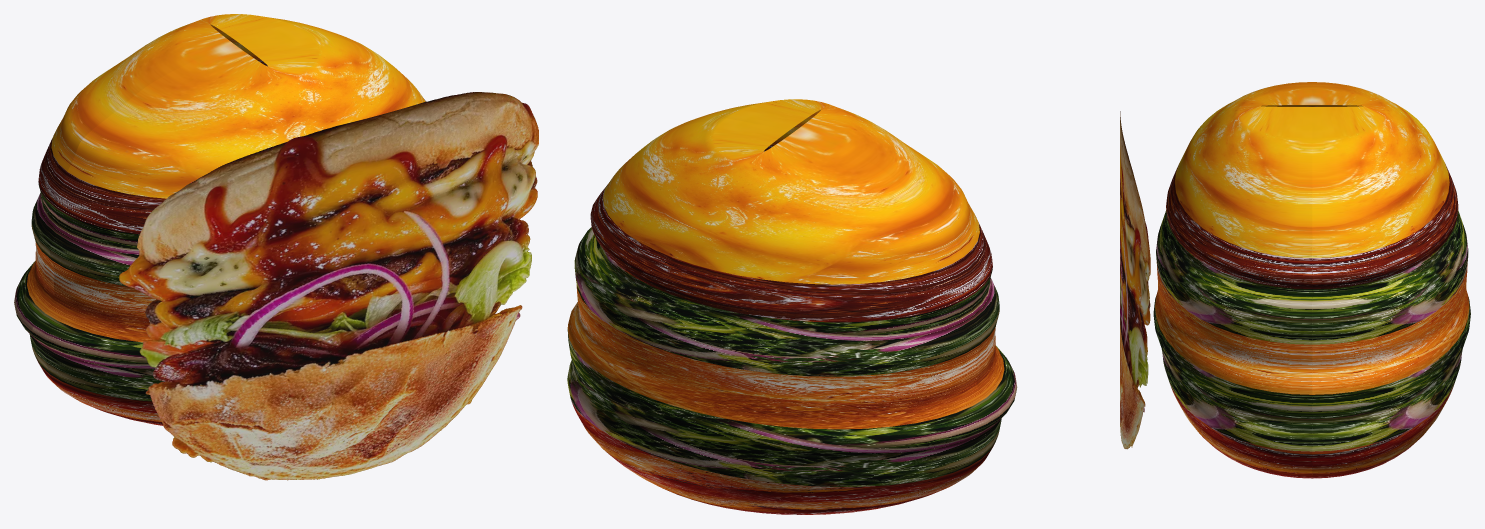
File: xtudo_bbq.glb
The picture shows the model from 3 angles, left to right: view 1: azimuth 30°, elevation 25°; view 2: azimuth 150°, elevation 25°; view 3: azimuth 270°, elevation 25°; orthographic projection. The views are drawn at different scales.
Parts seen in each view (by area): view 1: Frente do produto fotografada · xtudo_bbq, Volume frontal · ingrediente (0, 0) · 73, Verso · ingrediente (0, 0) · 73, Volume frontal · ingrediente (2, 0) · 19, Volume frontal · ingrediente (0, 1) · 36, Volume frontal · ingrediente (2, 0) · 50, Volume frontal · ingrediente (1, 2, 1) · 64, Volume frontal · ingrediente (1, 0) · 0, Verso · ingrediente (0, 1) · 36, Verso · ingrediente (2, 0) · 19, Verso · ingrediente (2, 0) · 50, Verso · ingrediente (1, 2, 1) · 64; view 2: Verso · ingrediente (0, 0) · 73, Verso · ingrediente (2, 0) · 19, Verso · ingrediente (2, 0) · 50, Verso · ingrediente (0, 1) · 36, Verso · ingrediente (1, 2, 1) · 64, Verso · ingrediente (1, 0) · 0, Volume frontal · ingrediente (0, 0) · 73, Volume frontal · ingrediente (0, 1) · 36, Volume frontal · ingrediente (2, 0) · 19, Volume frontal · ingrediente (2, 0) · 50, Volume frontal · ingrediente (1, 2, 1) · 64; view 3: Volume frontal · ingrediente (0, 0) · 73, Verso · ingrediente (0, 0) · 73, Volume frontal · ingrediente (2, 0) · 50, Verso · ingrediente (2, 0) · 50, Volume frontal · ingrediente (2, 0) · 19, Verso · ingrediente (2, 0) · 19, Volume frontal · ingrediente (0, 1) · 36, Verso · ingrediente (0, 1) · 36, Frente do produto fotografada · xtudo_bbq, Volume frontal · ingrediente (1, 2, 1) · 64, Verso · ingrediente (1, 2, 1) · 64, Volume frontal · ingrediente (1, 0) · 0 (+1 smaller).
Boxes of the visible parts, left/top/right/bottom form: Frente do produto fotografada · xtudo_bbq: left=119, top=92, right=538, bottom=480; Volume frontal · ingrediente (0, 0) · 73: left=67, top=33, right=425, bottom=198; Verso · ingrediente (0, 0) · 73: left=51, top=14, right=368, bottom=171; Volume frontal · ingrediente (2, 0) · 19: left=32, top=313, right=164, bottom=401; Volume frontal · ingrediente (0, 1) · 36: left=45, top=260, right=154, bottom=342; Volume frontal · ingrediente (2, 0) · 50: left=50, top=208, right=139, bottom=286; Volume frontal · ingrediente (1, 2, 1) · 64: left=56, top=98, right=425, bottom=234; Volume frontal · ingrediente (1, 0) · 0: left=50, top=374, right=162, bottom=425; Verso · ingrediente (0, 1) · 36: left=27, top=241, right=54, bottom=312; Verso · ingrediente (2, 0) · 19: left=14, top=261, right=49, bottom=373; Verso · ingrediente (2, 0) · 50: left=31, top=183, right=58, bottom=259; Verso · ingrediente (1, 2, 1) · 64: left=38, top=60, right=267, bottom=207; Verso · ingrediente (0, 0) · 73: left=603, top=118, right=963, bottom=284; Verso · ingrediente (2, 0) · 19: left=567, top=329, right=999, bottom=486; Verso · ingrediente (2, 0) · 50: left=574, top=227, right=981, bottom=376; Verso · ingrediente (0, 1) · 36: left=567, top=285, right=985, bottom=429; Verso · ingrediente (1, 2, 1) · 64: left=590, top=184, right=975, bottom=322; Verso · ingrediente (1, 0) · 0: left=571, top=399, right=980, bottom=514; Volume frontal · ingrediente (0, 0) · 73: left=662, top=99, right=979, bottom=256; Volume frontal · ingrediente (0, 1) · 36: left=976, top=326, right=1004, bottom=397; Volume frontal · ingrediente (2, 0) · 19: left=981, top=345, right=1017, bottom=458; Volume frontal · ingrediente (2, 0) · 50: left=972, top=267, right=999, bottom=344; Volume frontal · ingrediente (1, 2, 1) · 64: left=764, top=145, right=992, bottom=291; Volume frontal · ingrediente (0, 0) · 73: left=1175, top=82, right=1312, bottom=257; Verso · ingrediente (0, 0) · 73: left=1312, top=82, right=1449, bottom=257; Volume frontal · ingrediente (2, 0) · 50: left=1156, top=210, right=1312, bottom=344; Verso · ingrediente (2, 0) · 50: left=1312, top=210, right=1468, bottom=344; Volume frontal · ingrediente (2, 0) · 19: left=1153, top=296, right=1312, bottom=451; Verso · ingrediente (2, 0) · 19: left=1312, top=297, right=1470, bottom=451; Volume frontal · ingrediente (0, 1) · 36: left=1155, top=263, right=1312, bottom=394; Verso · ingrediente (0, 1) · 36: left=1312, top=264, right=1469, bottom=394; Frente do produto fotografada · xtudo_bbq: left=1120, top=111, right=1150, bottom=449; Volume frontal · ingrediente (1, 2, 1) · 64: left=1166, top=106, right=1312, bottom=288; Verso · ingrediente (1, 2, 1) · 64: left=1312, top=106, right=1458, bottom=288; Volume frontal · ingrediente (1, 0) · 0: left=1171, top=388, right=1312, bottom=478.
Size of the model in its own units: 0.17 by 0.1365 by 0.1369.
Materials: 3 (3 with a texture image).
